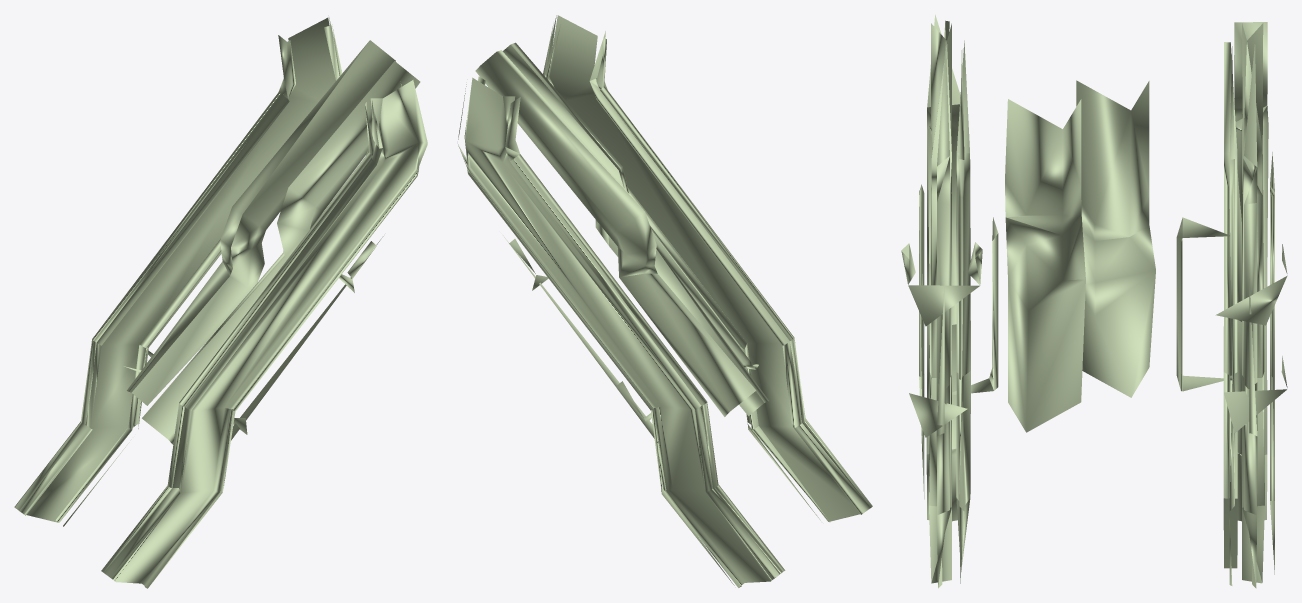
File: backdrop_lpad_support_a_lod4.glb
The picture shows the model from 3 angles, left to right: view 1: azimuth 30°, elevation 25°; view 2: azimuth 150°, elevation 25°; view 3: azimuth 270°, elevation 25°; orthographic projection. The views are drawn at different scales.
Size of the model in its own units: 189 by 230 by 103.
